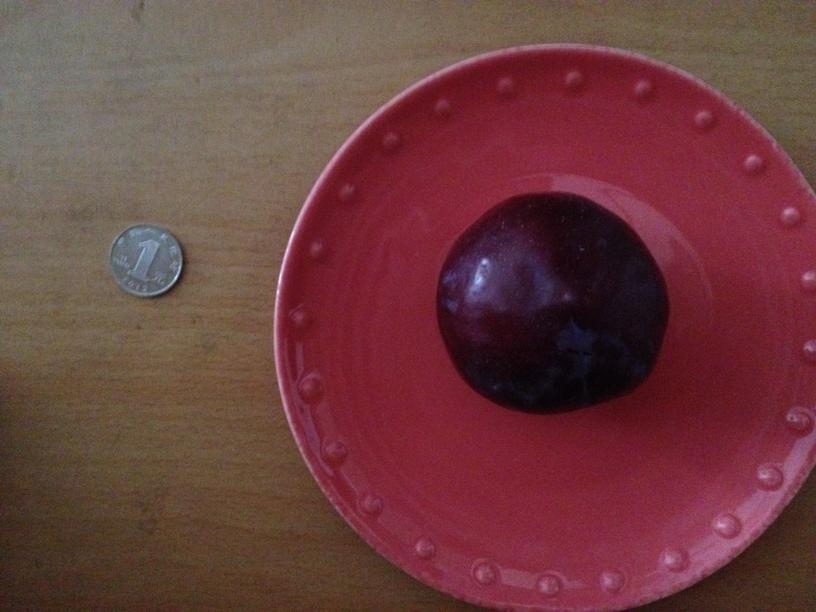coin: (101, 220, 185, 300)
plum: (429, 192, 670, 416)
